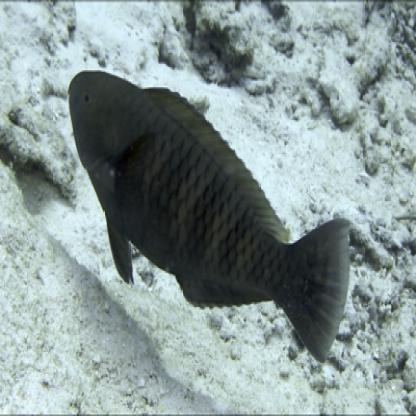parrot: (66, 63, 354, 369)
